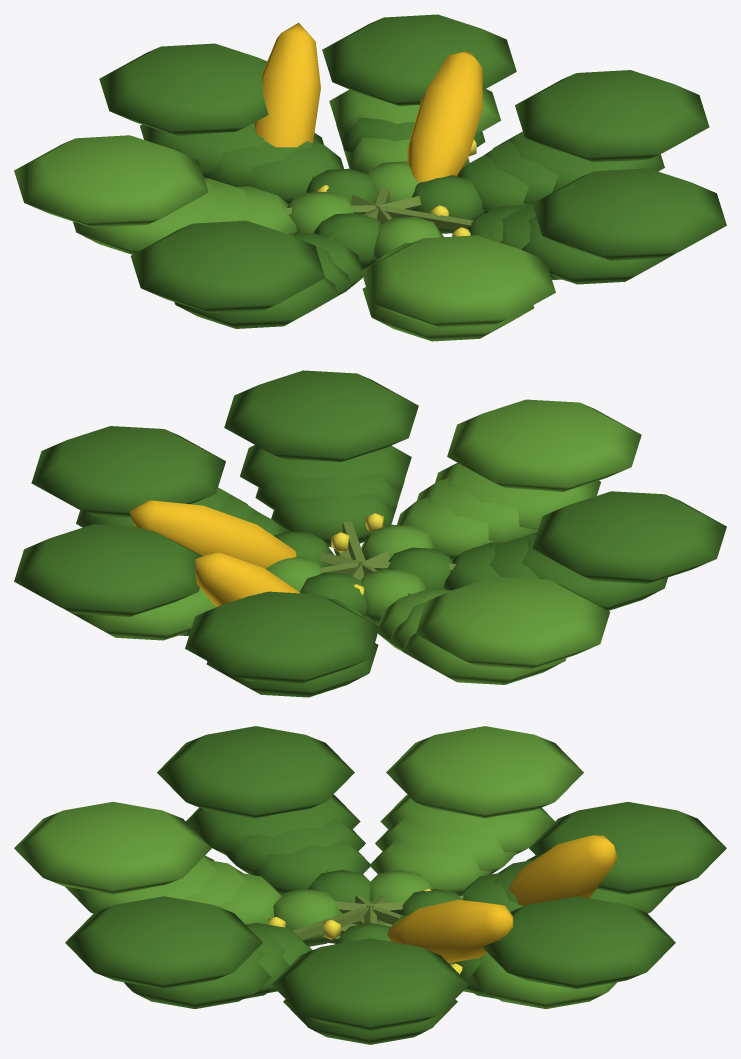
Rendered from Crop_Fruit_KoreanMelon.fbx.
The picture shows the model from 3 angles, top to bottom: view 1: azimuth 30°, elevation 25°; view 2: azimuth 150°, elevation 25°; view 3: azimuth 270°, elevation 25°; orthographic projection.
Parts seen in each view (by area): view 1: Crop_Fruit_KoreanMelon__S4, Crop_Fruit_KoreanMelon__S3, Crop_Fruit_KoreanMelon__S2, Crop_Fruit_KoreanMelon__S1, Crop_Fruit_KoreanMelon__S5; view 2: Crop_Fruit_KoreanMelon__S4, Crop_Fruit_KoreanMelon__S3, Crop_Fruit_KoreanMelon__S2, Crop_Fruit_KoreanMelon__S1, Crop_Fruit_KoreanMelon__S5; view 3: Crop_Fruit_KoreanMelon__S4, Crop_Fruit_KoreanMelon__S3, Crop_Fruit_KoreanMelon__S2, Crop_Fruit_KoreanMelon__S5, Crop_Fruit_KoreanMelon__S1.
Boxes of the visible parts, x1,y1,x2,y2 form: Crop_Fruit_KoreanMelon__S4: (14, 14, 726, 327); Crop_Fruit_KoreanMelon__S3: (73, 89, 675, 341); Crop_Fruit_KoreanMelon__S2: (236, 137, 529, 295); Crop_Fruit_KoreanMelon__S1: (287, 161, 484, 269); Crop_Fruit_KoreanMelon__S5: (202, 117, 561, 294); Crop_Fruit_KoreanMelon__S4: (14, 370, 726, 683); Crop_Fruit_KoreanMelon__S3: (65, 445, 667, 697); Crop_Fruit_KoreanMelon__S2: (246, 493, 504, 651); Crop_Fruit_KoreanMelon__S1: (265, 524, 453, 625); Crop_Fruit_KoreanMelon__S5: (179, 473, 538, 650); Crop_Fruit_KoreanMelon__S4: (14, 726, 726, 1031); Crop_Fruit_KoreanMelon__S3: (65, 794, 675, 1044); Crop_Fruit_KoreanMelon__S2: (218, 840, 522, 992); Crop_Fruit_KoreanMelon__S5: (181, 818, 532, 998); Crop_Fruit_KoreanMelon__S1: (273, 870, 462, 946).
Bounding box in the file's own units: 0.3181 × 0.0611 × 0.324.
